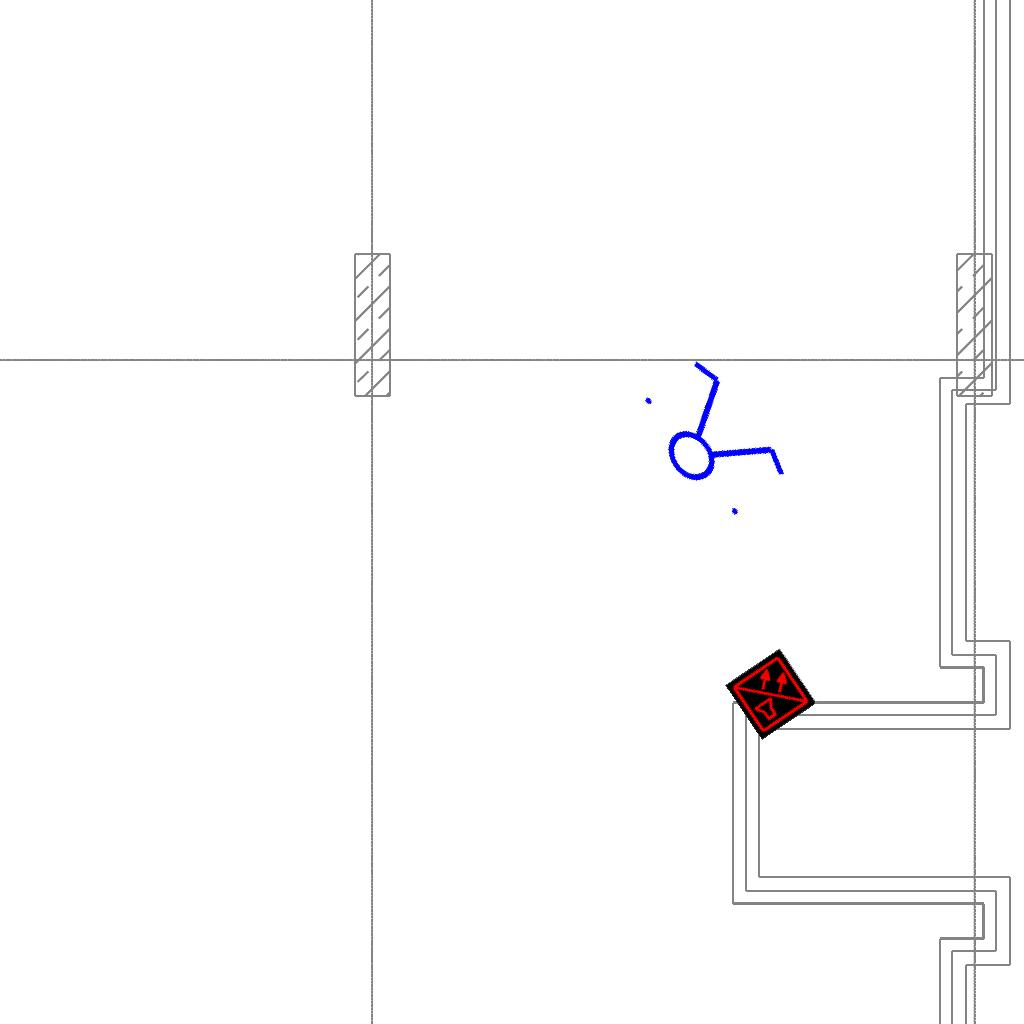OKW_Multisensormelder_(Kombination_optischer_Rauch-Kahlenmonoxid_Waerme-Melder): (725, 648, 817, 740)
Serienschalter: (621, 343, 801, 535)
